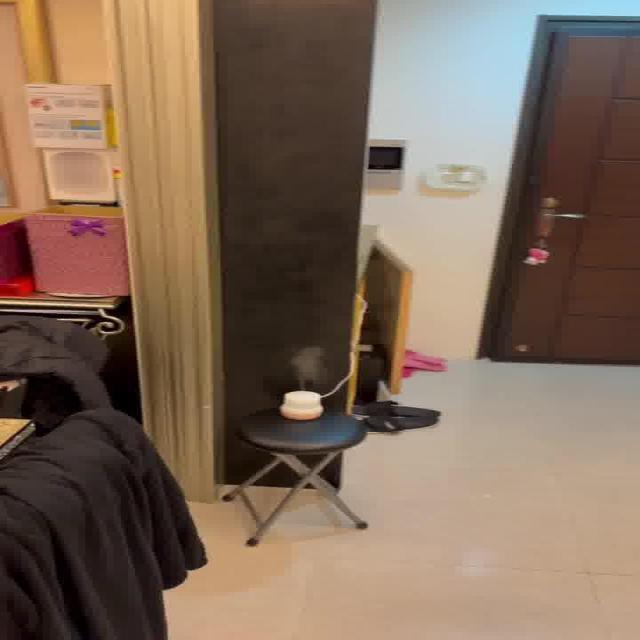fire: (288, 344, 334, 388)
